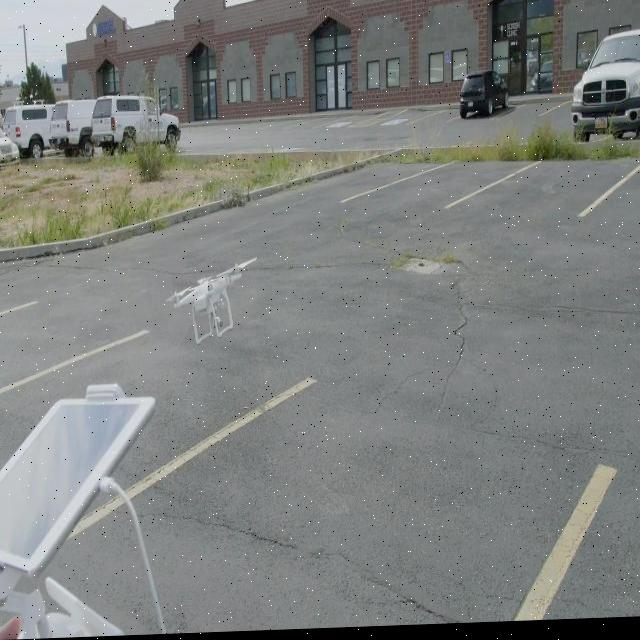drone: (168, 257, 254, 344)
